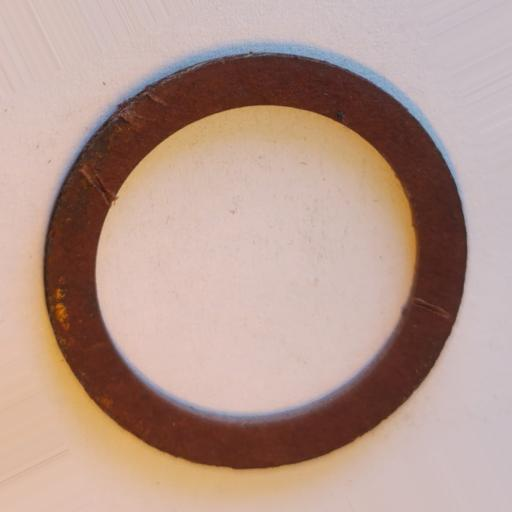defect: (77, 161, 116, 207), (115, 104, 153, 129), (412, 296, 450, 318), (144, 90, 170, 107)
